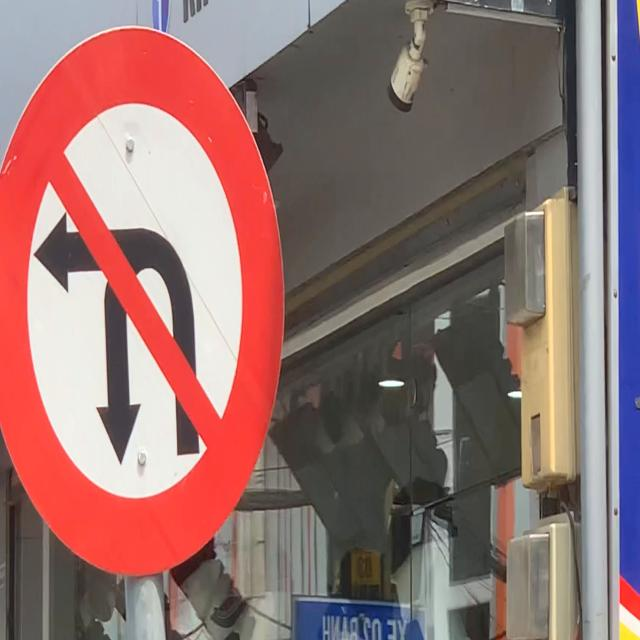Cam con lai: (0, 22, 288, 582)
